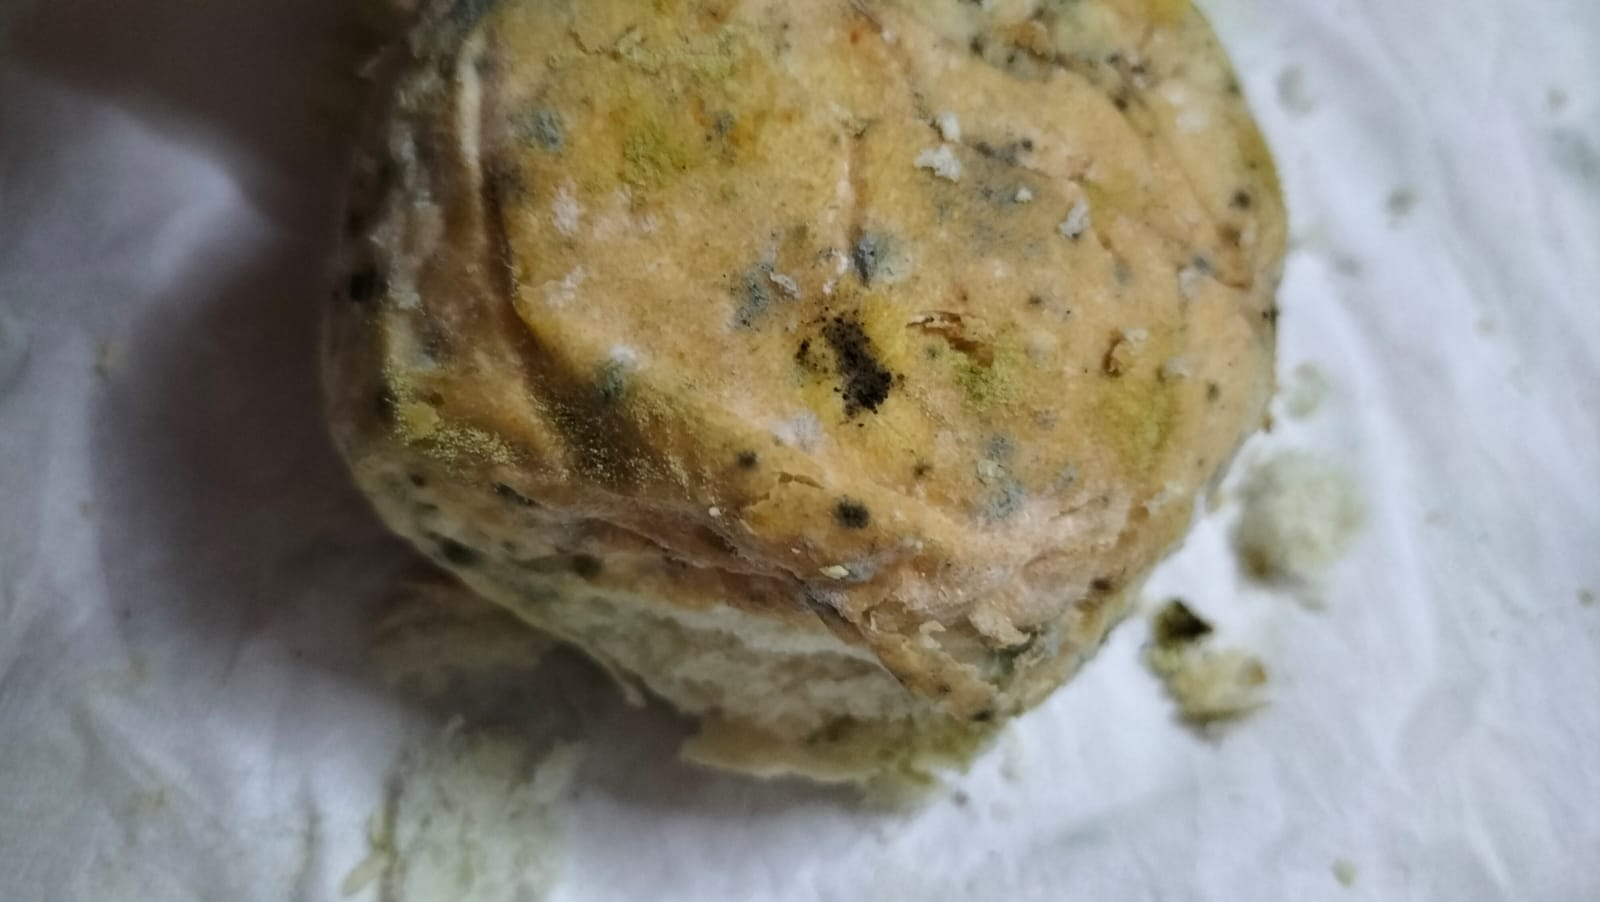mold_bread: (932, 124, 1047, 272), (789, 290, 914, 425), (546, 352, 664, 485), (963, 435, 1029, 526), (511, 94, 571, 160), (363, 365, 413, 433), (698, 98, 756, 151), (827, 487, 879, 545), (1227, 179, 1257, 218), (733, 446, 765, 479)
